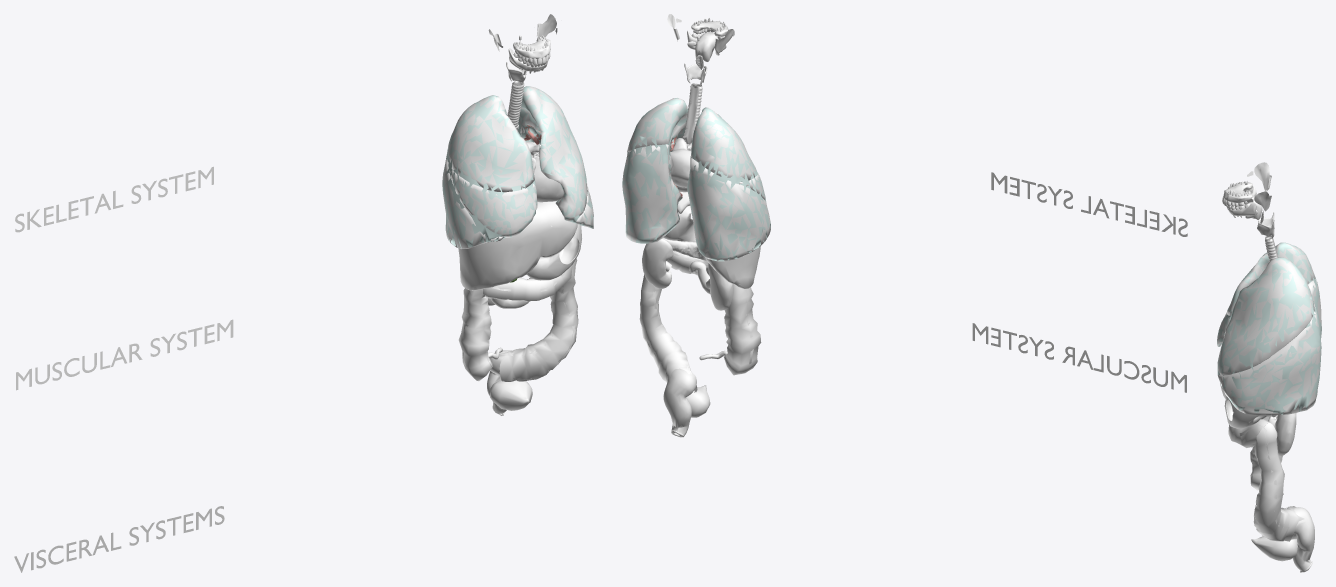
The model's file is anatomy_organs.glb.
3 views of the same model, side by side, from view 1: azimuth 30°, elevation 25°; view 2: azimuth 150°, elevation 25°; view 3: azimuth 270°, elevation 25° (orthographic). The views are drawn at different scales.
Visible parts, largest first — view 1: Pleura, Liver, Superior lobe of right lung, Descending colon, Superior lobe of left lung, Ascending colon, Middle lobe of right lung, Muscular system.g, Visceral systems.g, Skeletal system.g, Transverse colon, Inferior lobe of right lung (+4 smaller); view 2: Pleura, Inferior lobe of right lung, Inferior lobe of left lung, Ascending colon, Descending colon, Superior lobe of right lung, Muscular system.g, Sigmoid colon, Skeletal system.g, Liver, Superior lobe of left lung, Kidney.l (+3 smaller); view 3: Pleura, Superior lobe of left lung, Inferior lobe of left lung, Descending colon, Sigmoid colon, Superior lobe of right lung, Urinary bladder, Gingiva, Kidney.l, Transverse colon, Stomach, Ascending colon (+7 smaller).
Part boxes in pixels (box(x1,y1,x2,y2)): Pleura: box(442, 86, 593, 248); Liver: box(458, 201, 577, 290); Superior lobe of right lung: box(448, 95, 534, 192); Descending colon: box(499, 258, 578, 381); Superior lobe of left lung: box(519, 86, 587, 220); Ascending colon: box(458, 288, 492, 381); Middle lobe of right lung: box(448, 162, 537, 237); Muscular system.g: box(16, 319, 233, 390); Visceral systems.g: box(14, 506, 224, 572); Skeletal system.g: box(15, 166, 213, 232); Transverse colon: box(483, 249, 573, 301); Inferior lobe of right lung: box(442, 151, 504, 248); Pleura: box(622, 98, 770, 261); Inferior lobe of right lung: box(688, 158, 770, 261); Inferior lobe of left lung: box(622, 144, 682, 243); Ascending colon: box(724, 284, 761, 375); Descending colon: box(639, 274, 697, 392); Superior lobe of right lung: box(691, 107, 756, 181); Muscular system.g: box(972, 323, 1186, 392); Sigmoid colon: box(663, 368, 696, 435); Skeletal system.g: box(991, 172, 1187, 236); Liver: box(677, 192, 760, 288); Superior lobe of left lung: box(627, 98, 687, 154); Kidney.l: box(642, 238, 673, 288); Pleura: box(1217, 242, 1321, 414); Superior lobe of left lung: box(1217, 257, 1314, 375); Inferior lobe of left lung: box(1217, 304, 1321, 415); Descending colon: box(1253, 422, 1304, 541); Sigmoid colon: box(1293, 507, 1314, 571); Superior lobe of right lung: box(1226, 243, 1315, 315); Urinary bladder: box(1251, 536, 1297, 561); Gingiva: box(1223, 182, 1256, 215); Kidney.l: box(1275, 413, 1296, 456); Transverse colon: box(1228, 419, 1269, 447); Stomach: box(1224, 399, 1267, 428); Ascending colon: box(1250, 446, 1282, 490).
Bounding box in the file's own units: 1.13 × 0.8271 × 0.1867.
